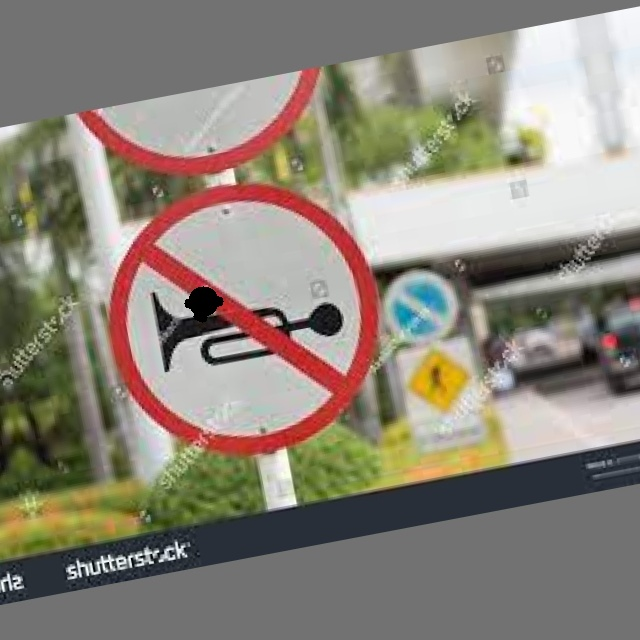Horn_Prohibited: (105, 168, 387, 466)
